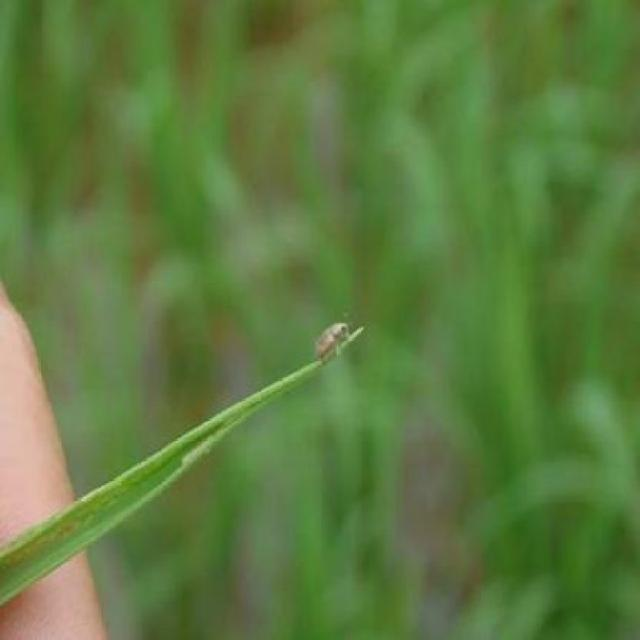rice-bug: (318, 320, 352, 362)
